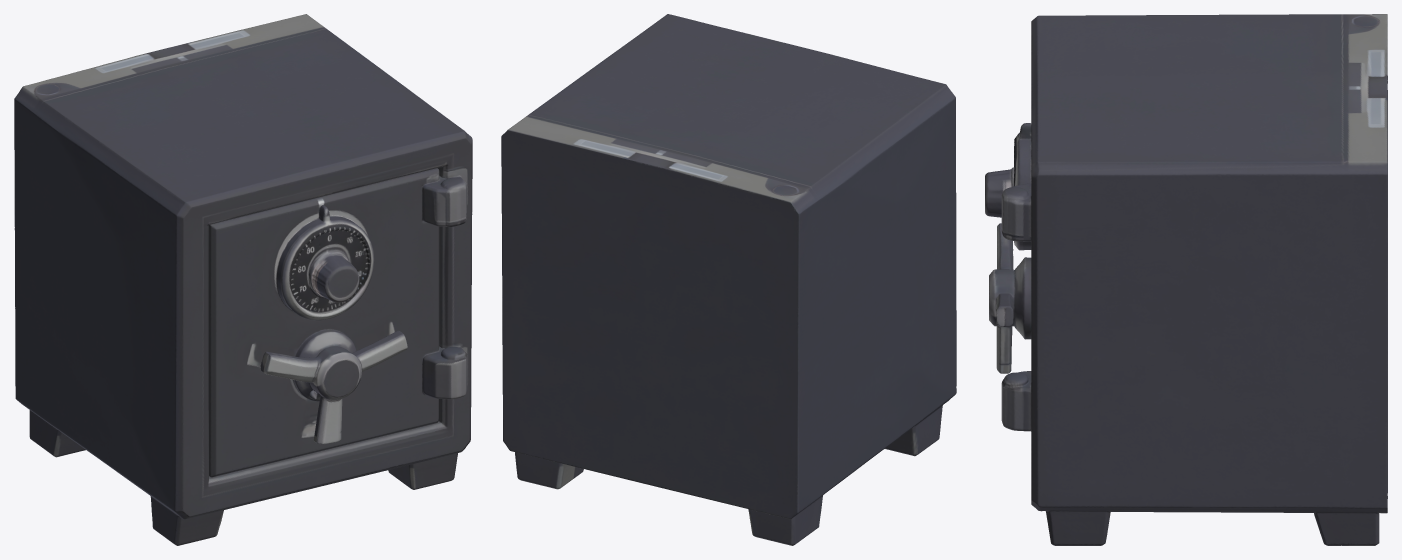
Rendered from steel safe 3d model.glb.
3 renders of one model, left to right at view 1: azimuth 30°, elevation 25°; view 2: azimuth 150°, elevation 25°; view 3: azimuth 270°, elevation 25°, orthographic. The views are drawn at different scales.
Visible parts, largest first — view 1: tripo_node_1ad81e12-3e90-43fc-84a3-e8d96ee2fc3c; view 2: tripo_node_1ad81e12-3e90-43fc-84a3-e8d96ee2fc3c; view 3: tripo_node_1ad81e12-3e90-43fc-84a3-e8d96ee2fc3c.
Boxes of the visible parts, left/top/right/bottom form: tripo_node_1ad81e12-3e90-43fc-84a3-e8d96ee2fc3c: left=14, top=14, right=472, bottom=545; tripo_node_1ad81e12-3e90-43fc-84a3-e8d96ee2fc3c: left=501, top=14, right=956, bottom=545; tripo_node_1ad81e12-3e90-43fc-84a3-e8d96ee2fc3c: left=985, top=14, right=1387, bottom=545.
Bounding box in the file's own units: 0.8832 × 1 × 0.9405.
1 material, 1 textured.
